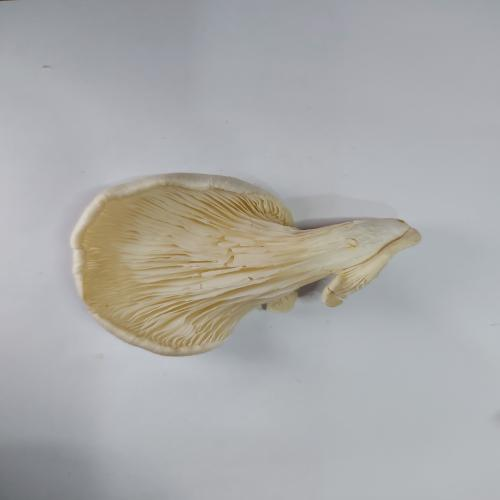Oyster Mushroom: (69, 171, 422, 357)
